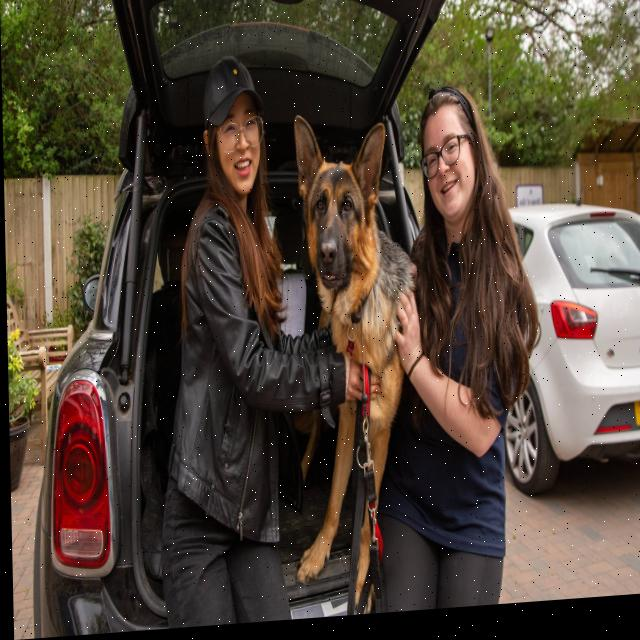GERMAN_SHEPHERD: (273, 107, 428, 622)
